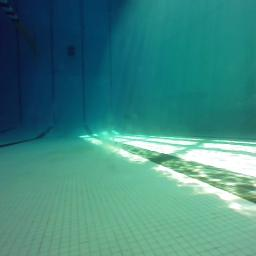Full: (66, 45, 76, 56)
